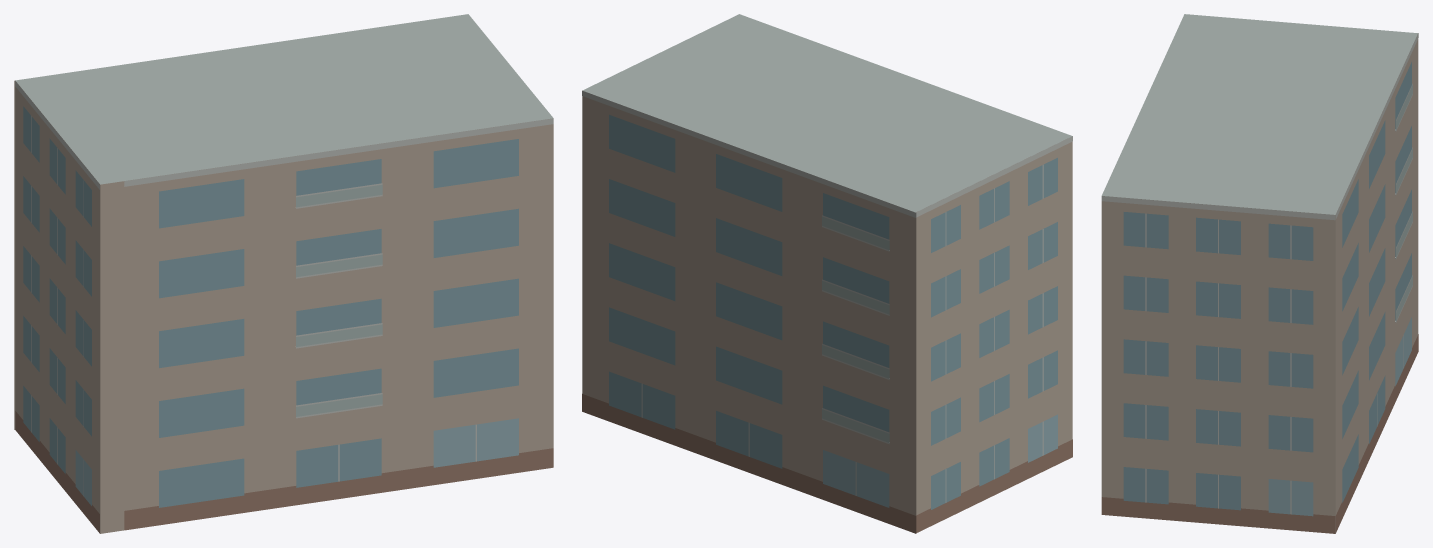
The model's file is survey-upis-32706193.glb.
3 renders of one model, left to right at view 1: azimuth 30°, elevation 25°; view 2: azimuth 150°, elevation 25°; view 3: azimuth 270°, elevation 25°, orthographic. The views are drawn at different scales.
Visible parts, largest first — view 1: survey-upis-32706193.tmp; view 2: survey-upis-32706193.tmp; view 3: survey-upis-32706193.tmp.
Boxes of the visible parts, x1,y1,x2,y2 form: survey-upis-32706193.tmp: [14, 14, 553, 533]; survey-upis-32706193.tmp: [582, 14, 1072, 533]; survey-upis-32706193.tmp: [1101, 14, 1418, 533].
Size of the model in its own units: 19.73 by 14.6 by 13.15.
